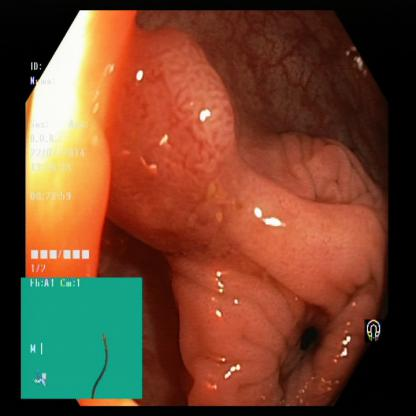Labels: (20, 244, 146, 401), (27, 58, 93, 212), (350, 300, 394, 354)
Polyps: (126, 29, 242, 244)
